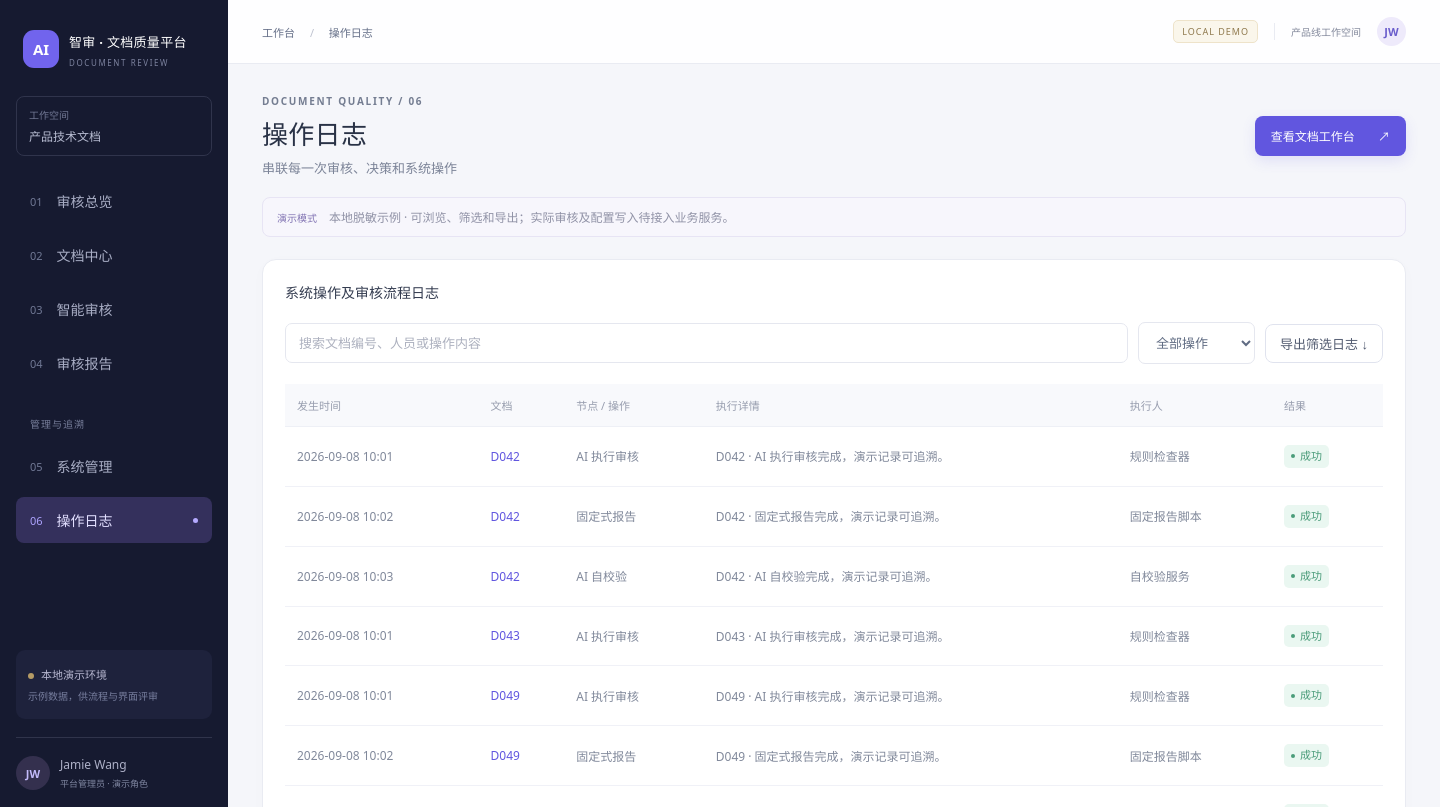
local demonstration user journeys › filters audit records by document rather than showing unrelated logs
Type "D031" into the field named "搜索日志" at (707, 343), box [285,323,1128,363]
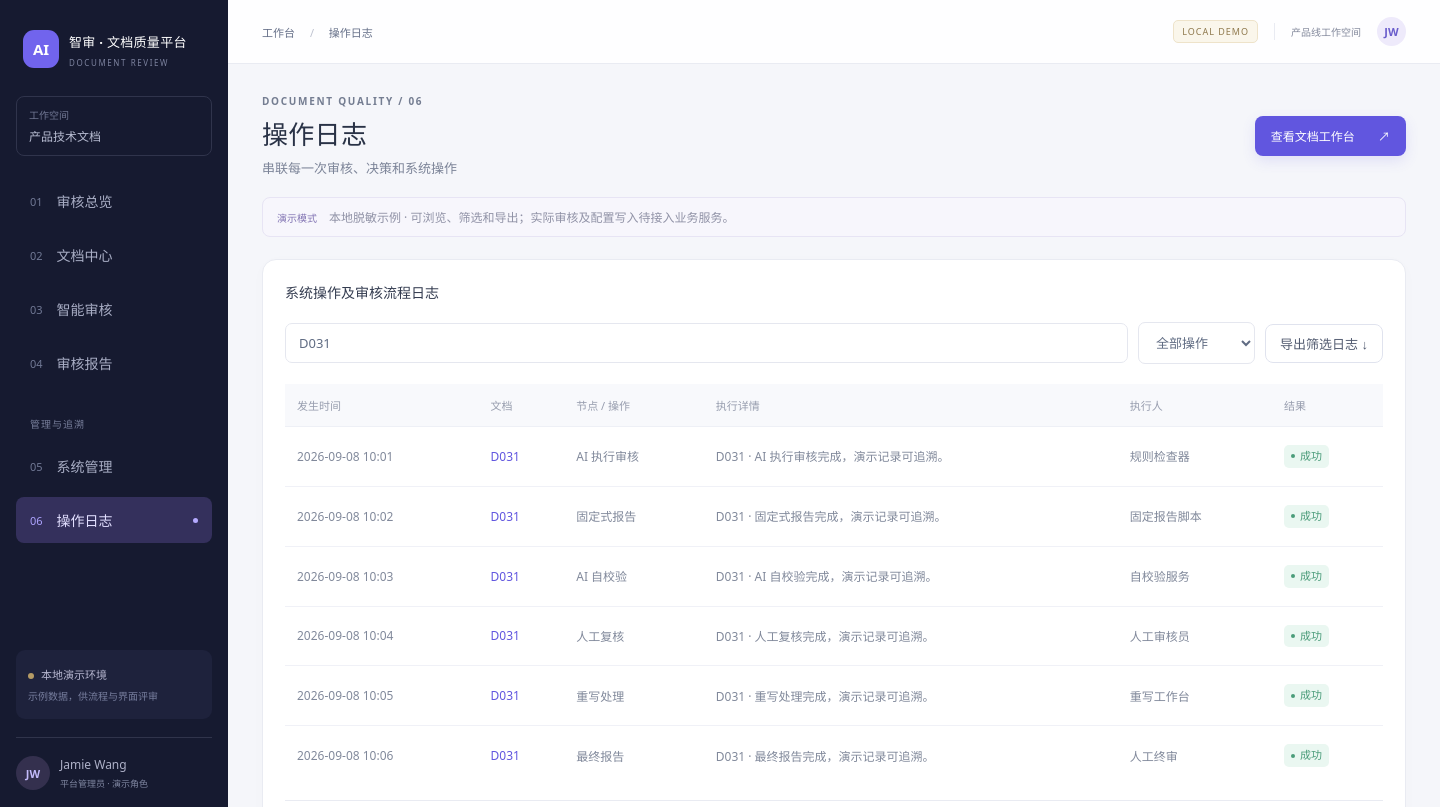
Expected: the link "D031" next to "2026-09-08 10:01" is shown, [490,448,520,465]
Expected: the link "D042" is gone
